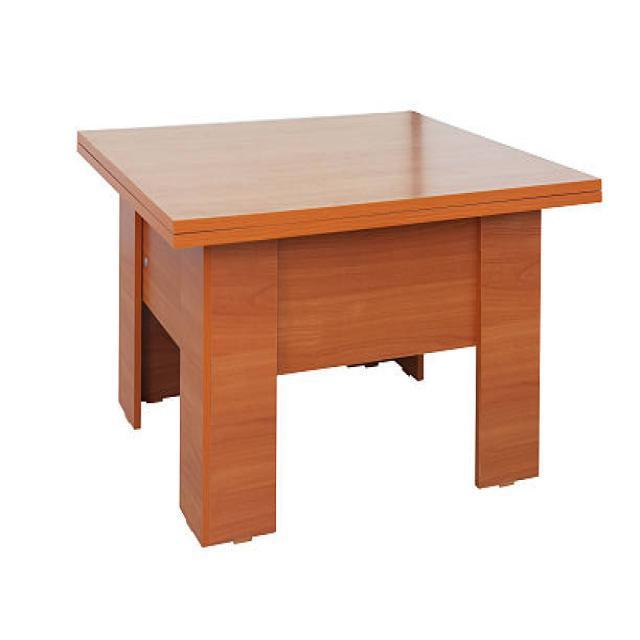table: (75, 107, 602, 548)
